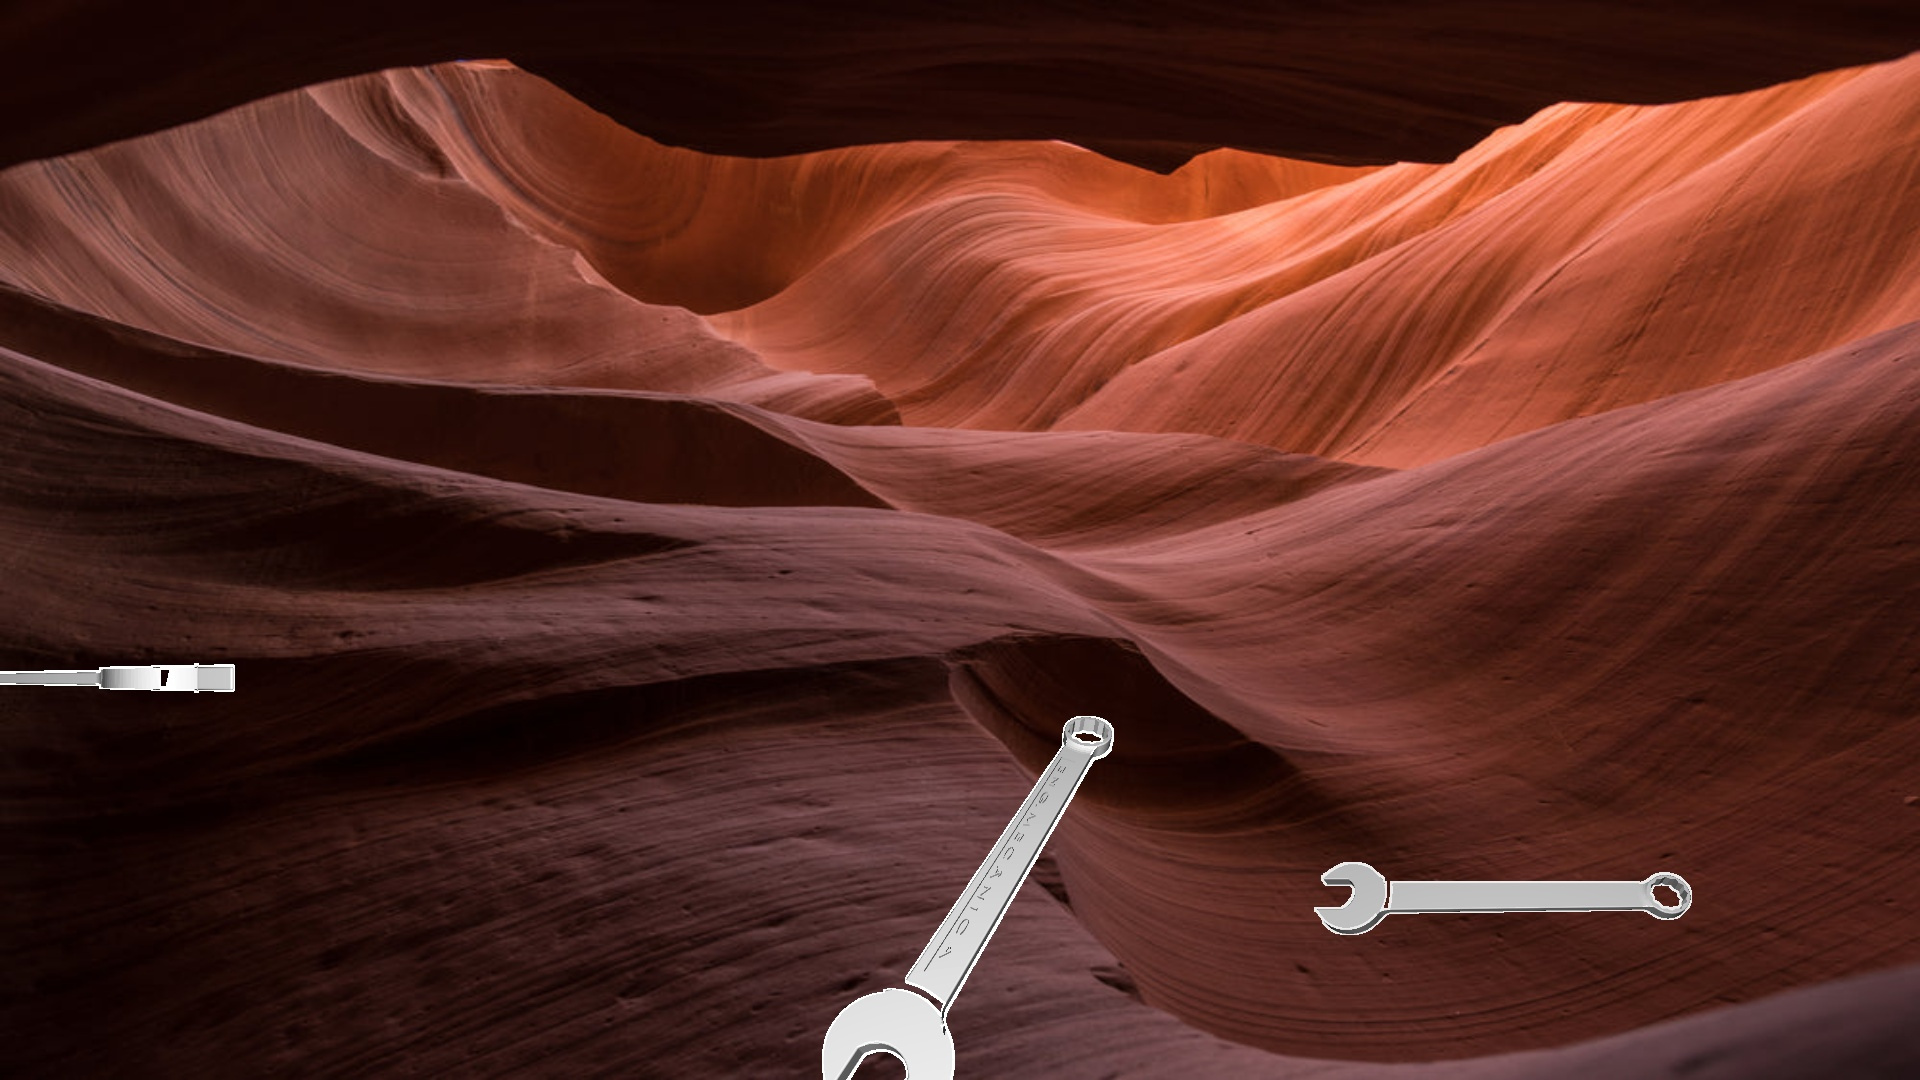Mixed Key: (822, 716, 1113, 1079), (1313, 862, 1691, 934), (0, 663, 233, 692)
